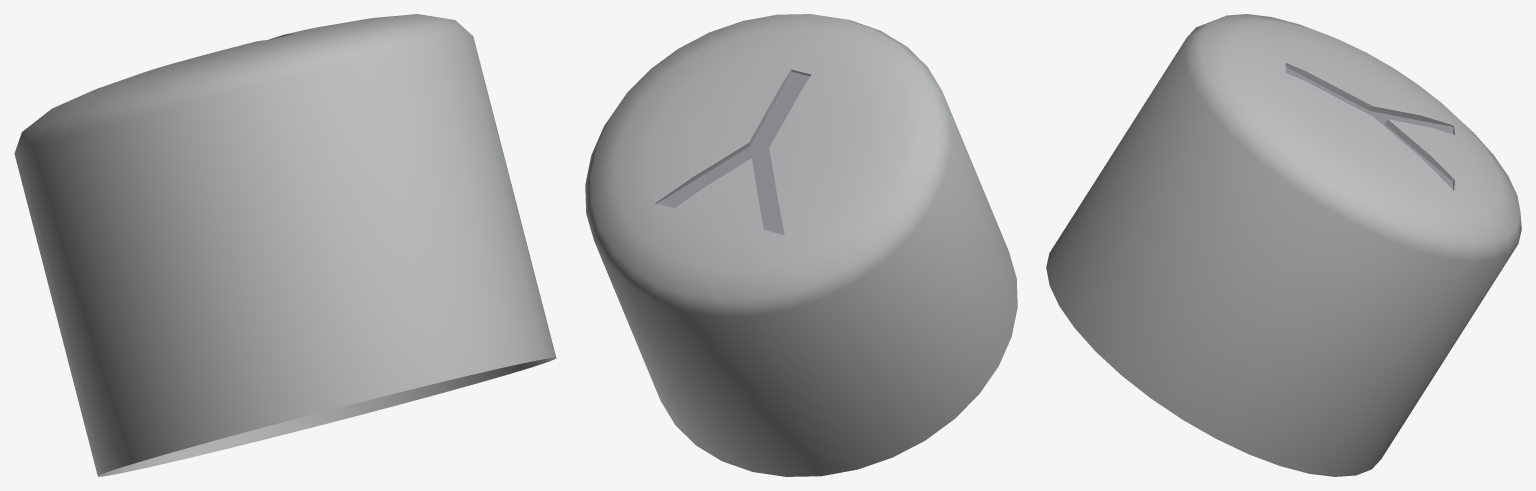
File: button_y.obj
The picture shows the model from 3 angles, left to right: view 1: azimuth 30°, elevation 25°; view 2: azimuth 150°, elevation 25°; view 3: azimuth 270°, elevation 25°; orthographic projection. The views are drawn at different scales.
Visible parts, largest first — view 1: button_y; view 2: button_y; view 3: button_y.
Boxes of the visible parts, x1=… form: button_y: x1=14, y1=14, x2=556, y2=476; button_y: x1=585, y1=14, x2=1017, y2=476; button_y: x1=1046, y1=14, x2=1521, y2=476.
Size of the model in its own units: 0.00999 by 0.0113 by 0.0121.
Materials: 1 (1 with a texture image).
